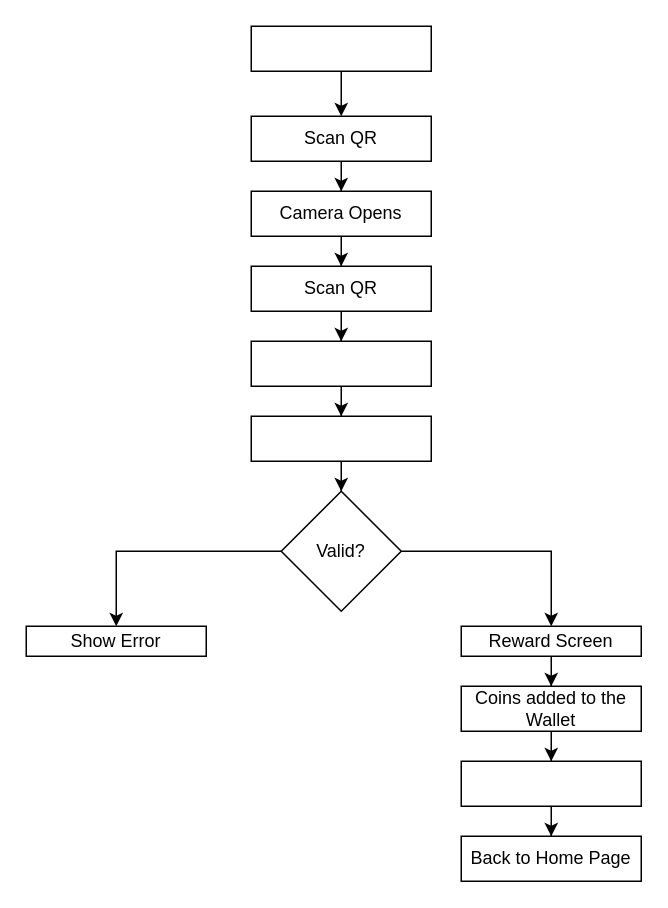
Some shapes in this 668 by 908 pixel diagram are drawn without their labels. The box of each missing label's shape, as (x1, y1, x2, y2) in pixels:
Home Page: (250, 25, 431, 71)
QR Detected: (250, 340, 431, 386)
Scanning...: (250, 415, 431, 461)
Show updated Balance: (460, 760, 641, 806)
